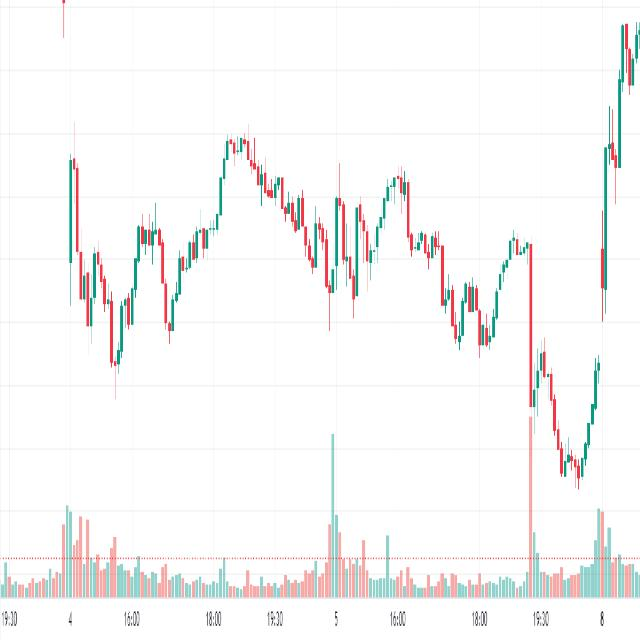Channel-down: (389, 100, 505, 439), (220, 88, 348, 326)
